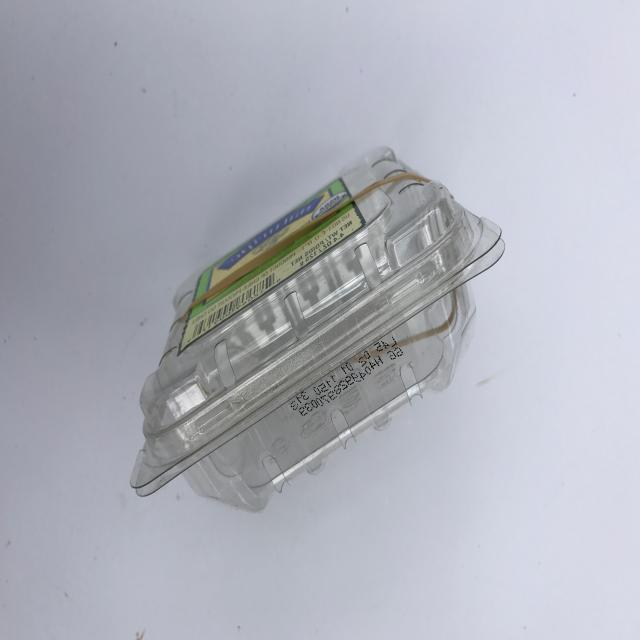plastic: (130, 145, 505, 513)
